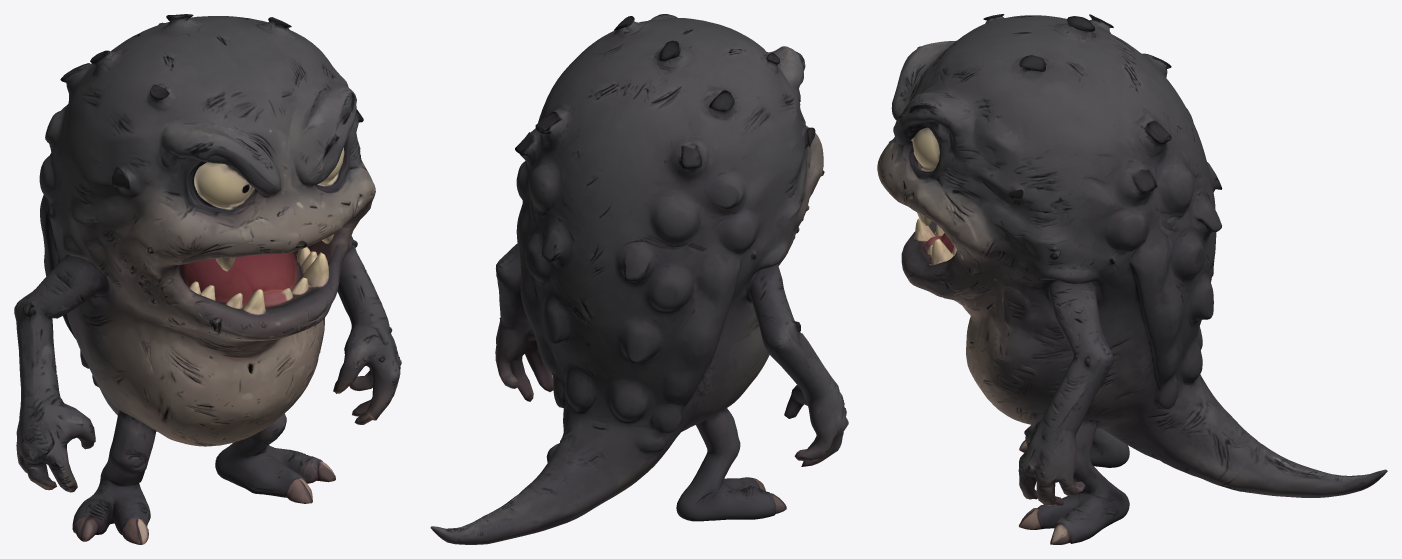
File: the_big_sucker.glb
3 views of the same model, side by side, from view 1: azimuth 30°, elevation 25°; view 2: azimuth 150°, elevation 25°; view 3: azimuth 270°, elevation 25° (orthographic). The views are drawn at different scales.
Parts seen in each view (by area): view 1: tripo_node_baa969b1-0dc6-4e89-8239-380f1dc4bb5f; view 2: tripo_node_baa969b1-0dc6-4e89-8239-380f1dc4bb5f; view 3: tripo_node_baa969b1-0dc6-4e89-8239-380f1dc4bb5f.
Boxes of the visible parts, box(x1,y1,x2,y2) form: tripo_node_baa969b1-0dc6-4e89-8239-380f1dc4bb5f: box(14, 14, 401, 544); tripo_node_baa969b1-0dc6-4e89-8239-380f1dc4bb5f: box(430, 14, 848, 544); tripo_node_baa969b1-0dc6-4e89-8239-380f1dc4bb5f: box(877, 14, 1387, 544).
Bounding box in the file's own units: 0.7813 × 0.9814 × 0.9774.
Materials: 1 (1 with a texture image).
